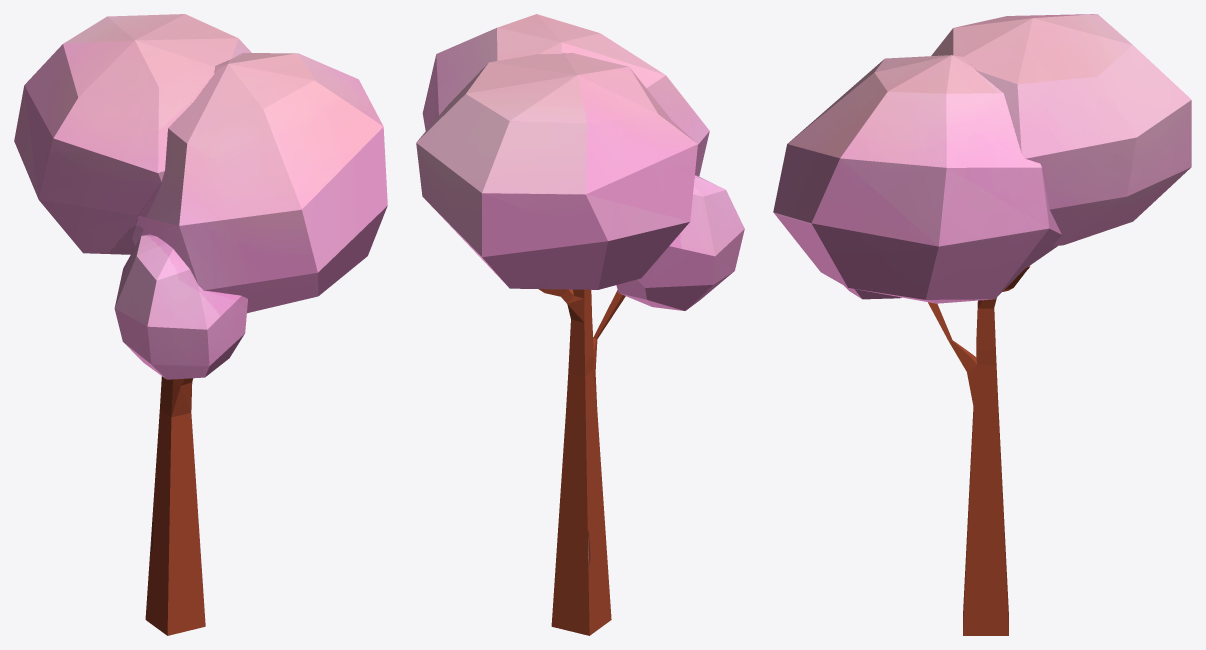
Rendered from Tall Tree1.fbx.
3 renders of one model, left to right at view 1: azimuth 30°, elevation 25°; view 2: azimuth 150°, elevation 25°; view 3: azimuth 270°, elevation 25°, orthographic. The views are drawn at different scales.
Visible parts, largest first — view 1: Tall Tree; view 2: Tall Tree; view 3: Tall Tree.
Part boxes in pixels (x1,y1,x2,y2): Tall Tree: (14,14,387,635); Tall Tree: (416,14,744,635); Tall Tree: (773,14,1191,635).
Bounding box in the file's own units: 1004 × 1796 × 1138.
